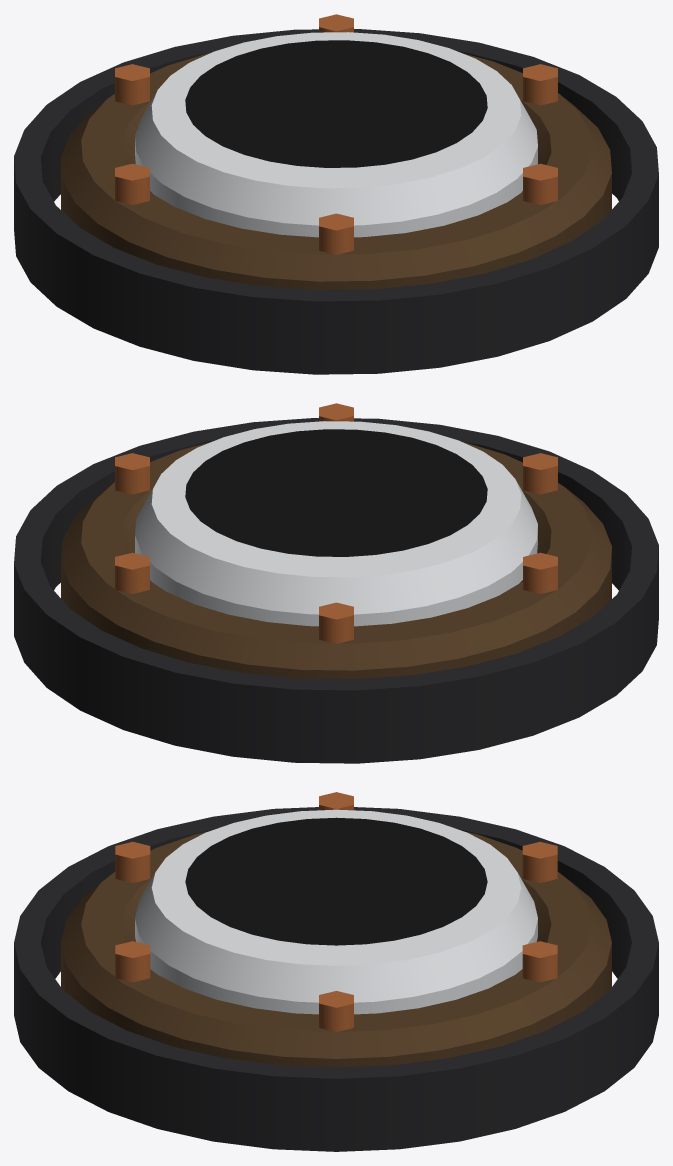
The model's file is rd1_thruster_fl.obj.
3 views of the same model, one above another, from view 1: azimuth 30°, elevation 25°; view 2: azimuth 150°, elevation 25°; view 3: azimuth 270°, elevation 25° (orthographic).
Visible parts, largest first — view 1: rd1_thruster_fl; view 2: rd1_thruster_fl; view 3: rd1_thruster_fl.
Boxes of the visible parts, bbox=[...] form: rd1_thruster_fl: bbox=[14, 14, 658, 374]; rd1_thruster_fl: bbox=[14, 403, 658, 763]; rd1_thruster_fl: bbox=[14, 792, 658, 1151].
Size of the model in its own units: 0.192 by 0.064 by 0.192.
